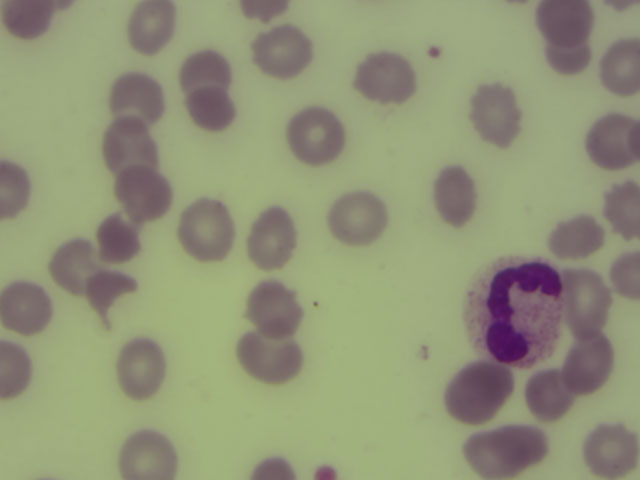Platelets: (316, 463, 338, 480), (429, 44, 442, 57)
RBC: (447, 352, 512, 424), (177, 197, 237, 263), (327, 184, 391, 245), (236, 327, 308, 381), (255, 20, 316, 76), (470, 84, 526, 145), (248, 206, 302, 268), (120, 424, 178, 480), (355, 49, 415, 102), (558, 269, 610, 329), (119, 339, 170, 397), (291, 111, 342, 164), (565, 330, 616, 383), (464, 427, 515, 480), (502, 421, 553, 474), (542, 25, 593, 78), (589, 41, 640, 94), (587, 114, 638, 167), (585, 421, 636, 474), (524, 367, 575, 420), (250, 280, 301, 333), (427, 167, 478, 220), (183, 48, 234, 101), (122, 163, 173, 216), (92, 210, 143, 263), (53, 239, 104, 292), (104, 106, 155, 159), (108, 65, 159, 118), (124, 1, 175, 53), (3, 1, 54, 53), (1, 171, 51, 224), (1, 340, 51, 393), (1, 278, 51, 331), (180, 87, 229, 137), (552, 215, 604, 262), (538, 1, 595, 40), (90, 270, 135, 315), (609, 181, 640, 243), (250, 446, 302, 480), (611, 256, 640, 302), (236, 1, 287, 24), (589, 1, 636, 12)
WBC: (465, 253, 564, 371)
